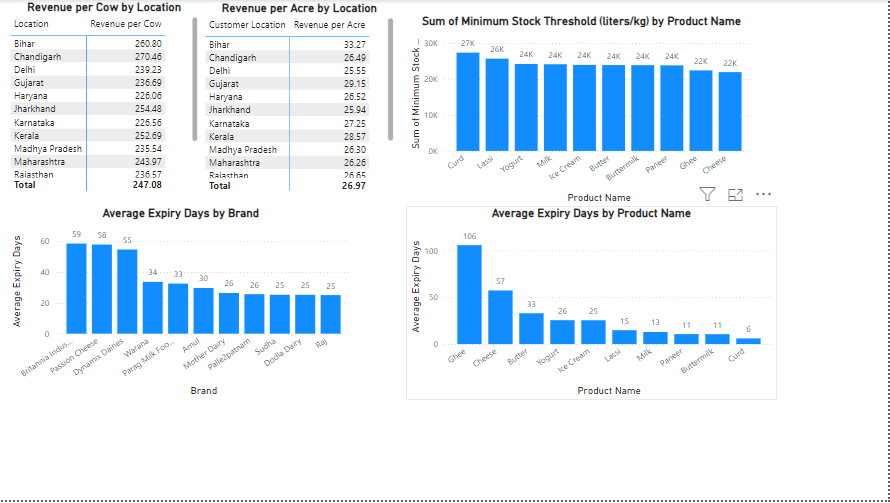

The dashboard page shown, as its layout file describes it:
{"tool":"powerbi","page":{"name":"Page 7","canvas":[1280,720],"ordinal":6},"visuals":[{"type":"pivotTable","title":"Revenue per Cow by Location","fields":{"Rows":["dairy_dataset.Location"],"Values":["dairy_dataset.Revenue per Cow"]},"box":[10,0,280,280],"z":0},{"type":"pivotTable","title":"Revenue per Acre by Location","fields":{"Rows":["dairy_dataset.Customer Location"],"Values":["dairy_dataset.Revenue per Acre"]},"box":[290.6,1.7,280.5,278.8],"z":1},{"type":"clusteredColumnChart","fields":{"Category":["dairy_dataset.Product Name"],"Y":["Sum(dairy_dataset.Minimum Stock Threshold (liters/kg))"]},"box":[584.6,20.2,505.6,277.2],"z":2},{"type":"columnChart","fields":{"Y":["dairy_dataset.Average Expiry Days"],"Category":["dairy_dataset.Brand"]},"box":[10.1,297.3,500.6,278.8],"z":3},{"type":"columnChart","fields":{"Category":["dairy_dataset.Product Name"],"Y":["dairy_dataset.Average Expiry Days"]},"box":[584.6,297.3,534.2,278.8],"z":4}]}

Visuals, with their boxes in screenshot pixels (x1, y1, x2, y2), scaled from the page's 1280x720 canvas onto the 890x503 screenshot:
"Revenue per Cow by Location" pivotTable: bbox(7, 0, 202, 196)
"Revenue per Acre by Location" pivotTable: bbox(202, 1, 397, 196)
clusteredColumnChart - dairy_dataset.Product Name x Sum(dairy_dataset.Minimum Stock Threshold (liters/kg)): bbox(406, 14, 758, 208)
columnChart - dairy_dataset.Average Expiry Days x dairy_dataset.Brand: bbox(7, 208, 355, 402)
columnChart - dairy_dataset.Product Name x dairy_dataset.Average Expiry Days: bbox(406, 208, 778, 402)
